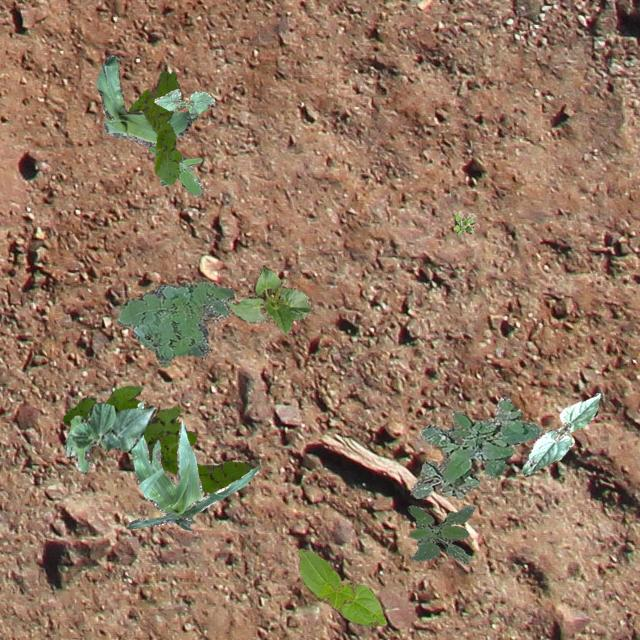crop: (126, 400, 258, 530), (96, 54, 196, 146), (296, 548, 386, 624), (520, 392, 600, 476), (64, 402, 154, 472), (227, 264, 311, 334), (154, 88, 214, 116)
weed: (62, 384, 254, 492), (408, 396, 540, 498), (116, 280, 232, 366), (128, 70, 180, 184), (406, 504, 474, 562), (149, 146, 201, 194), (452, 210, 476, 237)
